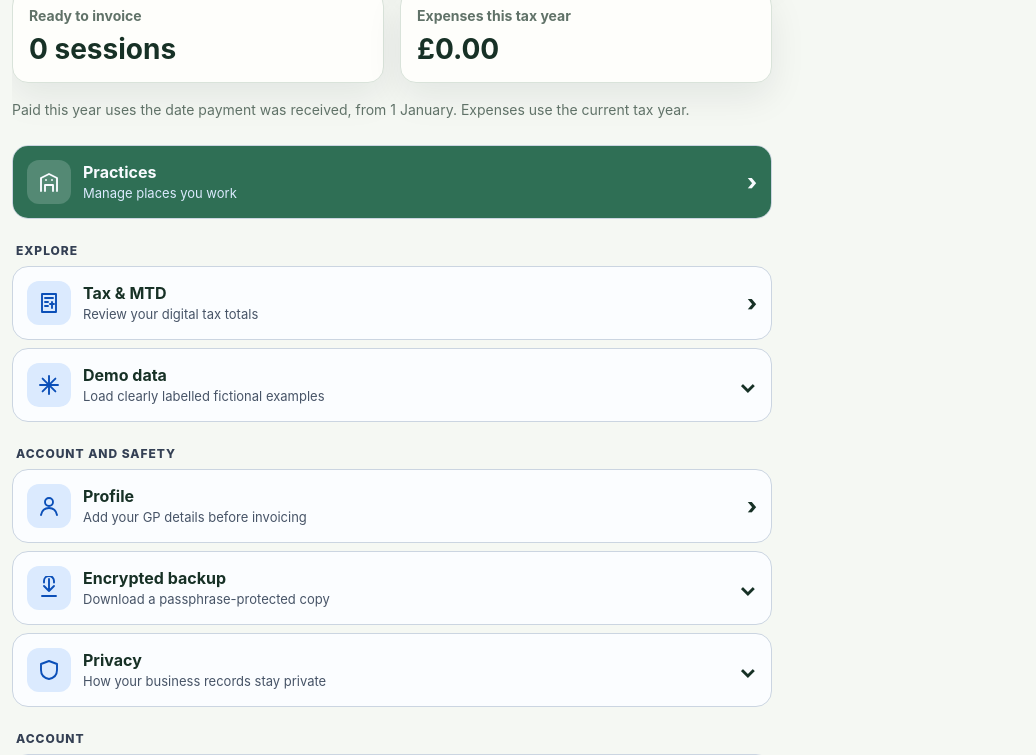
disables demo controls until offline storage is ready
(page scrolled)
Step 1. Click the button "Demo data" → (49, 385), box [13,349,771,421]
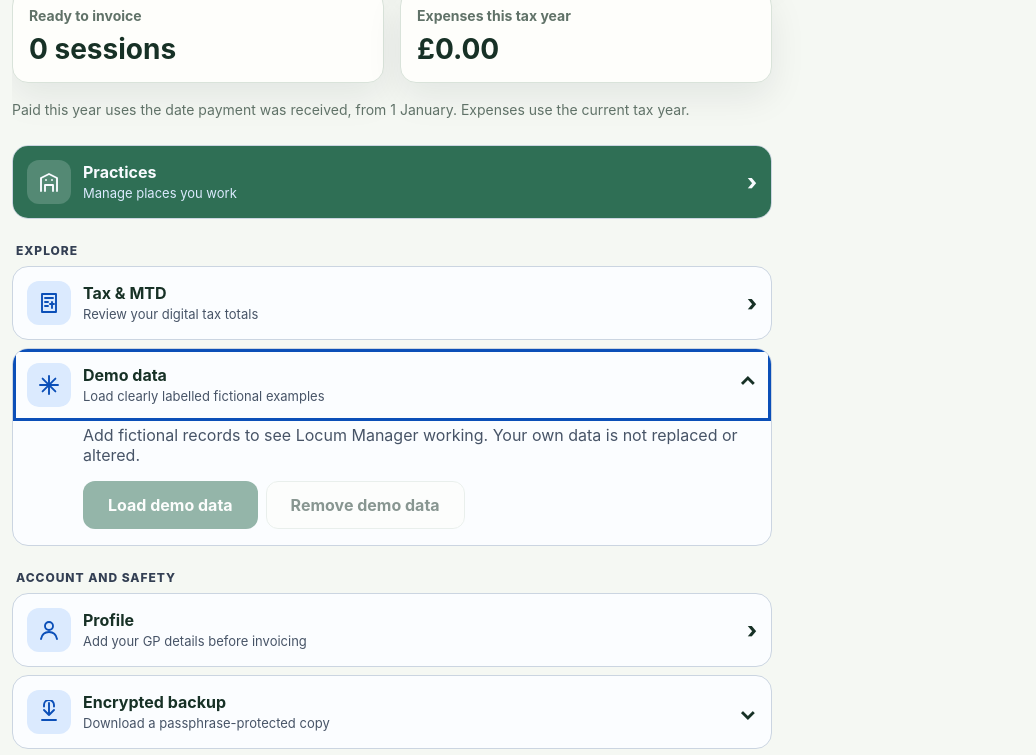
Now the button "Load demo data" is disabled, box [83,481,258,529]
Now the button "Remove demo data" is disabled, box [266,481,465,529]
